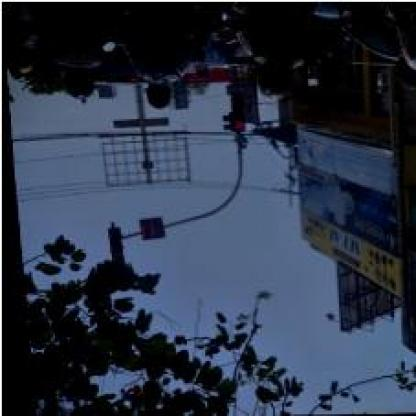red: (102, 226, 118, 265), (229, 94, 244, 130)
